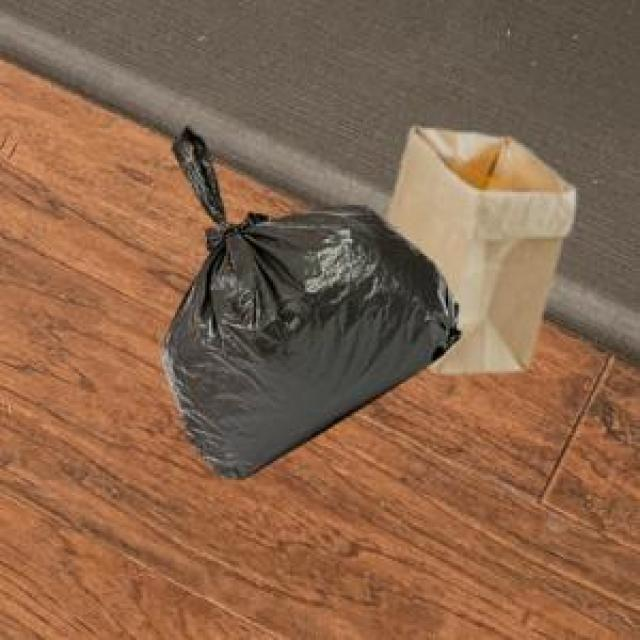miscellaneous trash: (158, 124, 457, 476)
paper: (384, 124, 570, 369)
